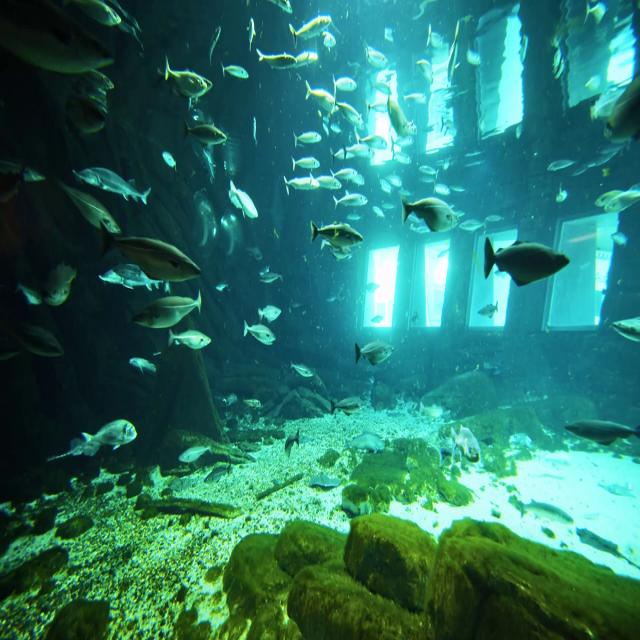fish: (0, 0, 150, 76), (90, 215, 205, 287), (480, 224, 575, 304), (46, 64, 116, 159), (39, 172, 121, 250), (52, 408, 145, 462), (397, 170, 456, 247), (4, 304, 72, 365), (73, 159, 153, 210), (562, 408, 640, 458), (348, 325, 406, 384), (128, 288, 202, 332), (307, 205, 370, 255), (164, 52, 212, 103), (376, 79, 414, 141), (183, 110, 230, 157), (229, 176, 265, 228), (288, 5, 334, 45), (167, 320, 213, 356), (125, 340, 161, 383), (241, 316, 281, 354), (279, 158, 320, 194), (302, 80, 336, 115), (255, 48, 299, 74), (251, 298, 285, 330), (220, 60, 254, 90), (296, 117, 322, 152), (291, 147, 323, 170)
